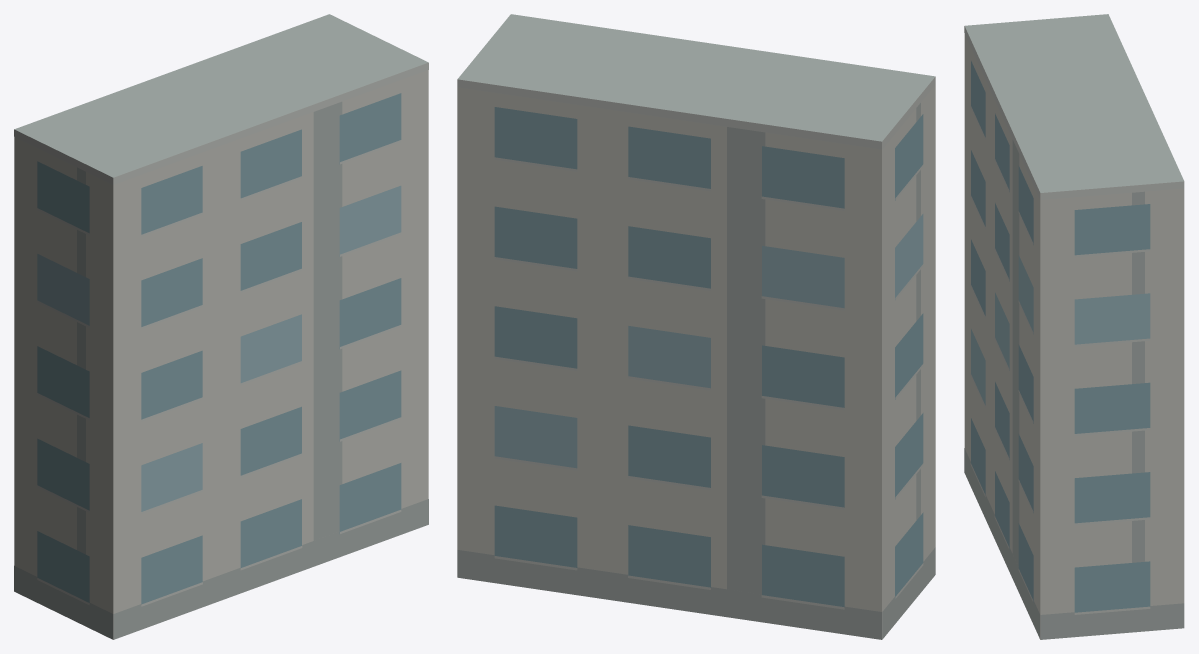
Rendered from residential-3ffaee59-d2e3-4334-a3e1-5c9db0f07adc.glb.
The picture shows the model from 3 angles, left to right: view 1: azimuth 30°, elevation 25°; view 2: azimuth 150°, elevation 25°; view 3: azimuth 270°, elevation 25°; orthographic projection. The views are drawn at different scales.
Parts seen in each view (by area): view 1: residential-3ffaee59-d2e3-4334-a3e1-5c9db0f07adc.tmp; view 2: residential-3ffaee59-d2e3-4334-a3e1-5c9db0f07adc.tmp; view 3: residential-3ffaee59-d2e3-4334-a3e1-5c9db0f07adc.tmp.
Part boxes in pixels (box(x1,y1,x2,y2)): residential-3ffaee59-d2e3-4334-a3e1-5c9db0f07adc.tmp: box(14, 14, 428, 639); residential-3ffaee59-d2e3-4334-a3e1-5c9db0f07adc.tmp: box(457, 14, 935, 639); residential-3ffaee59-d2e3-4334-a3e1-5c9db0f07adc.tmp: box(964, 14, 1184, 639).
Size of the model in its own units: 13.12 by 15.25 by 6.81.
